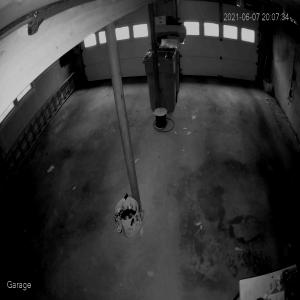garbage bin: (142, 30, 181, 114)
tool bucket: (114, 192, 144, 241)
